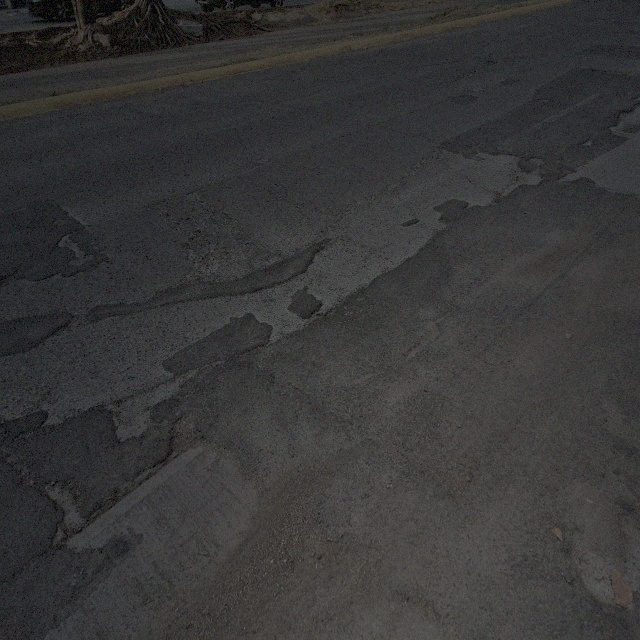pothole: (105, 372, 183, 450), (41, 483, 92, 535), (178, 220, 219, 279), (164, 406, 202, 464), (55, 231, 95, 264), (609, 98, 639, 142), (467, 58, 495, 79)
